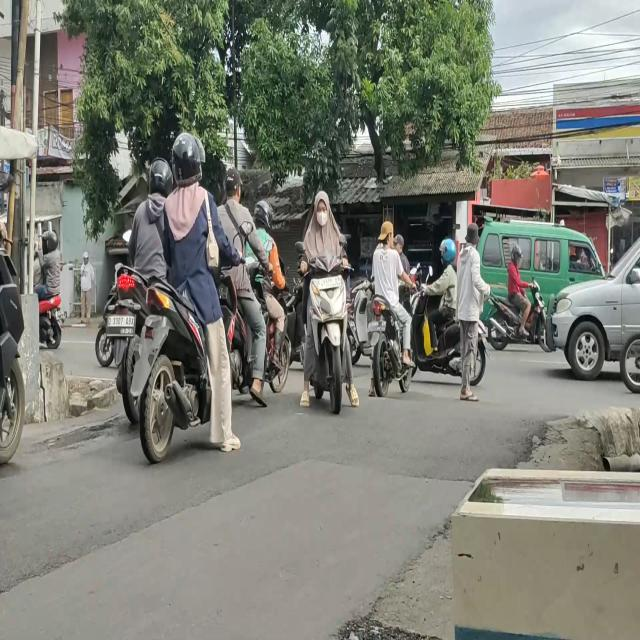helmet: (172, 132, 202, 184), (150, 159, 170, 190), (255, 199, 273, 228), (442, 239, 458, 262), (45, 233, 58, 250), (511, 246, 521, 264)
no-helmet: (225, 169, 242, 200), (314, 191, 331, 221), (379, 222, 393, 249), (394, 234, 404, 254)
